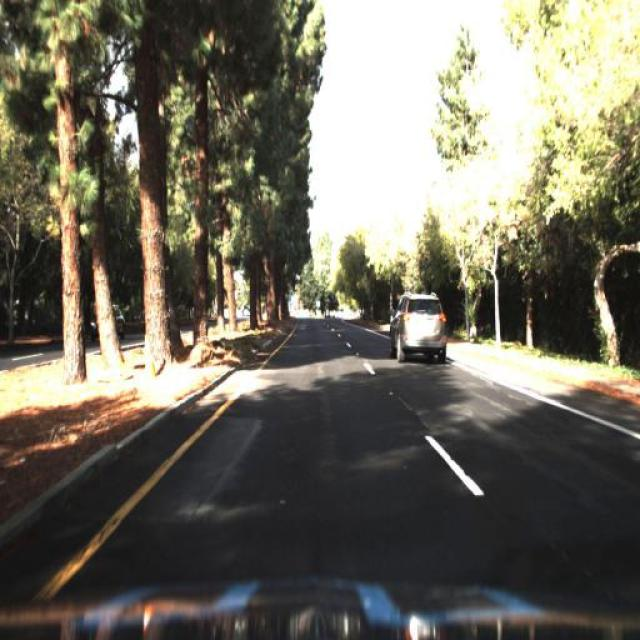car: (384, 287, 448, 365), (86, 299, 123, 345), (88, 304, 121, 350)
